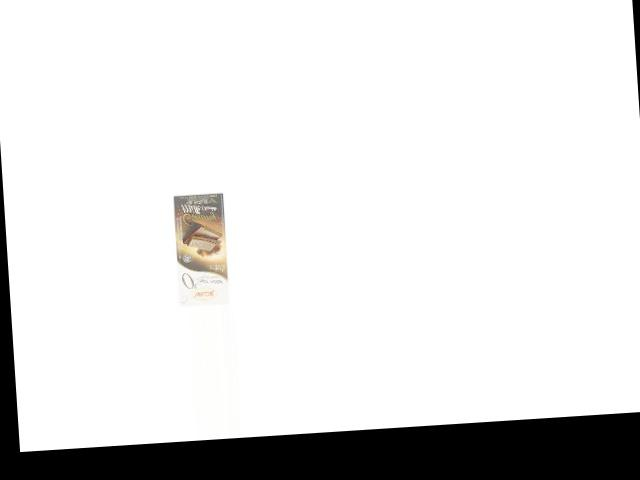chocolate: (169, 191, 232, 307)
